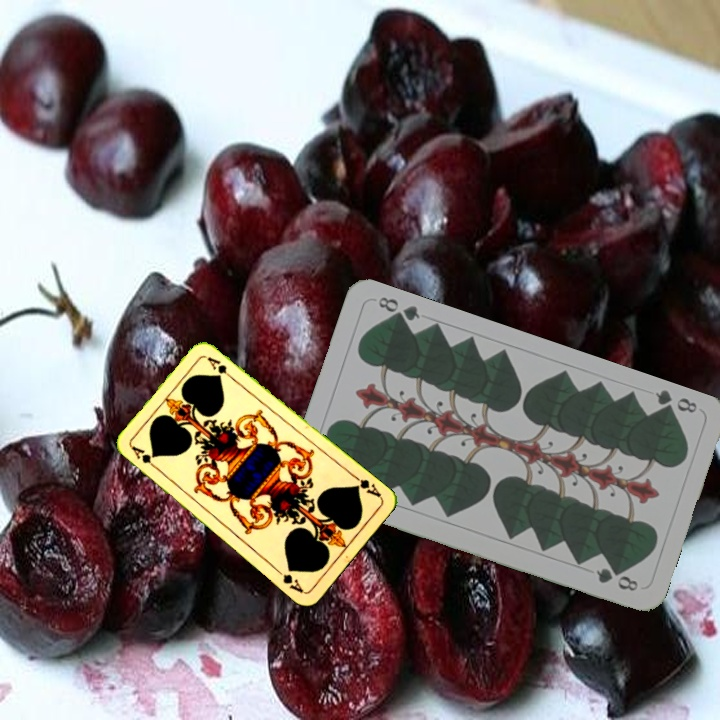G8: (651, 386, 700, 420)
GA: (127, 442, 162, 473), (348, 470, 384, 500)
